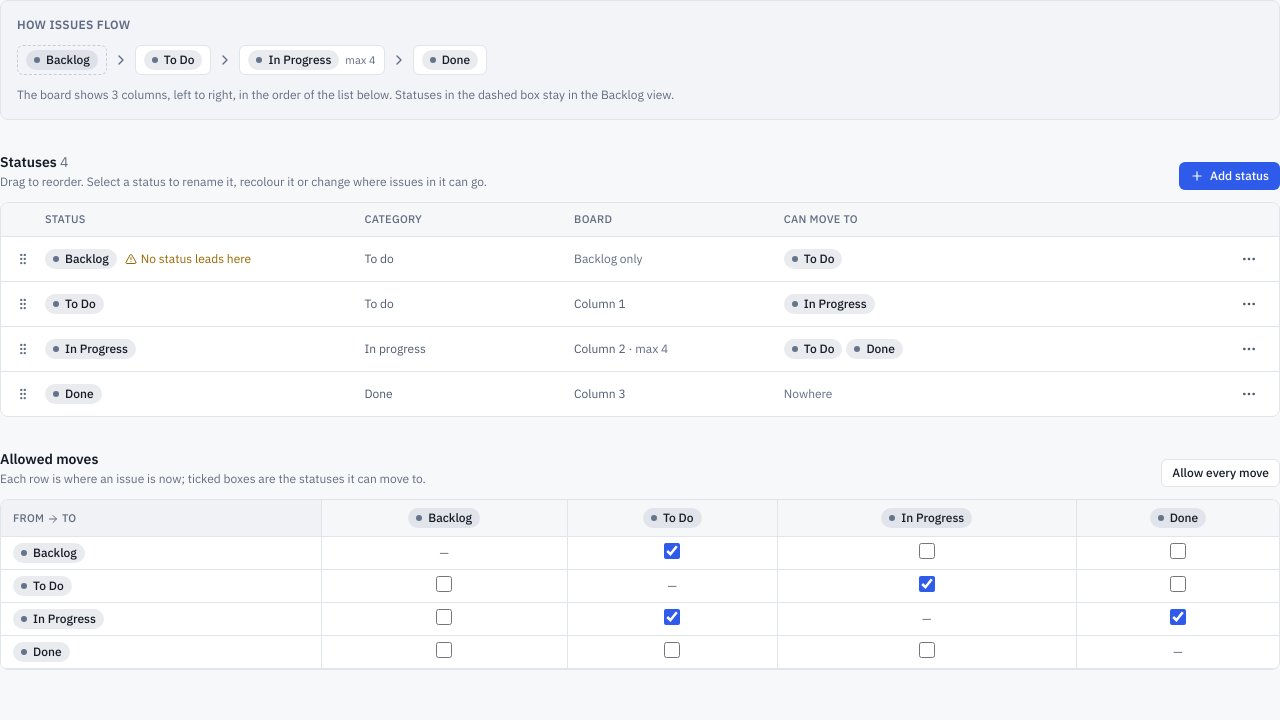
Scenario: workflow settings › edits a status in the panel: an untouched name isn't renamed, and its moves save together
The width and height of the screenshot is (1280, 720).
Click the button with aria-label "Edit In Progress".
click(90, 348)  # box x1=45 y1=338 x2=136 y2=359
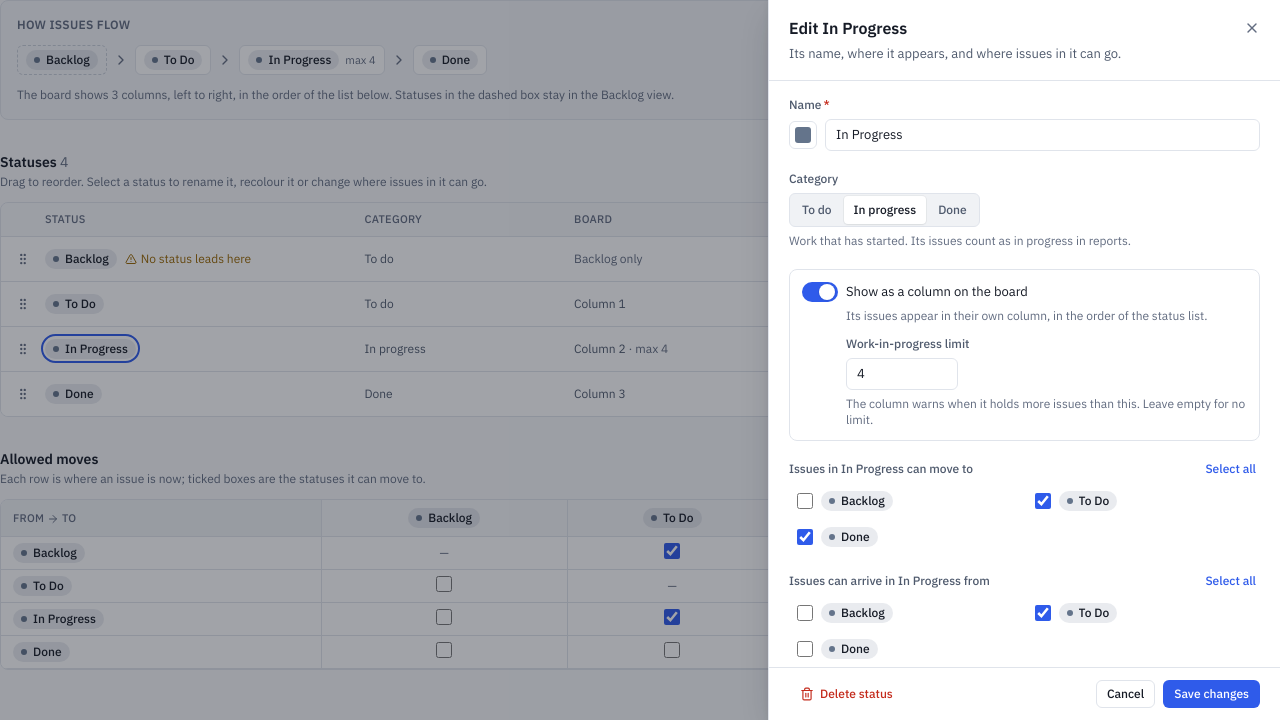
Check: the field labelled "Name*" holds "In Progress", box x1=825 y1=118 x2=1260 y2=150
Click the checkbox labelled "To Do" below "Issues in In Progress can move to".
click(1042, 500)  # box x1=1034 y1=492 x2=1050 y2=508
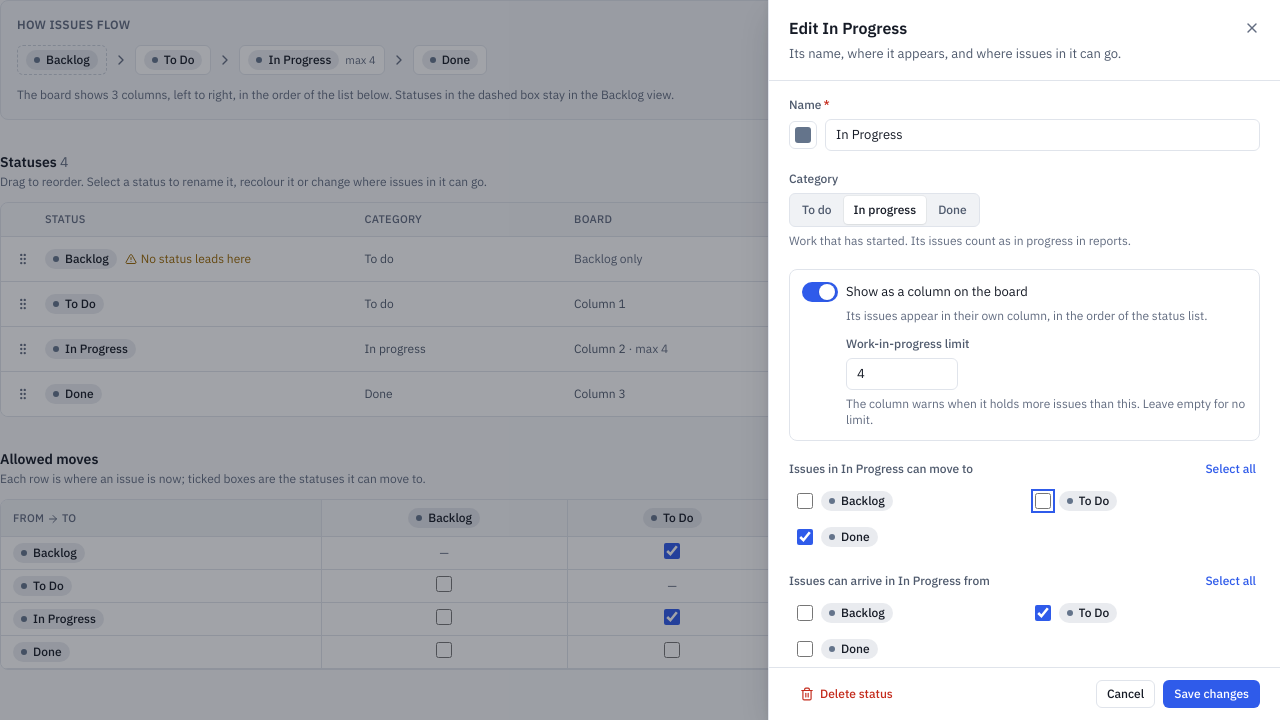
Clear the number field labelled "Work-in-progress limit" at (902,374), box x1=846 y1=358 x2=958 y2=390
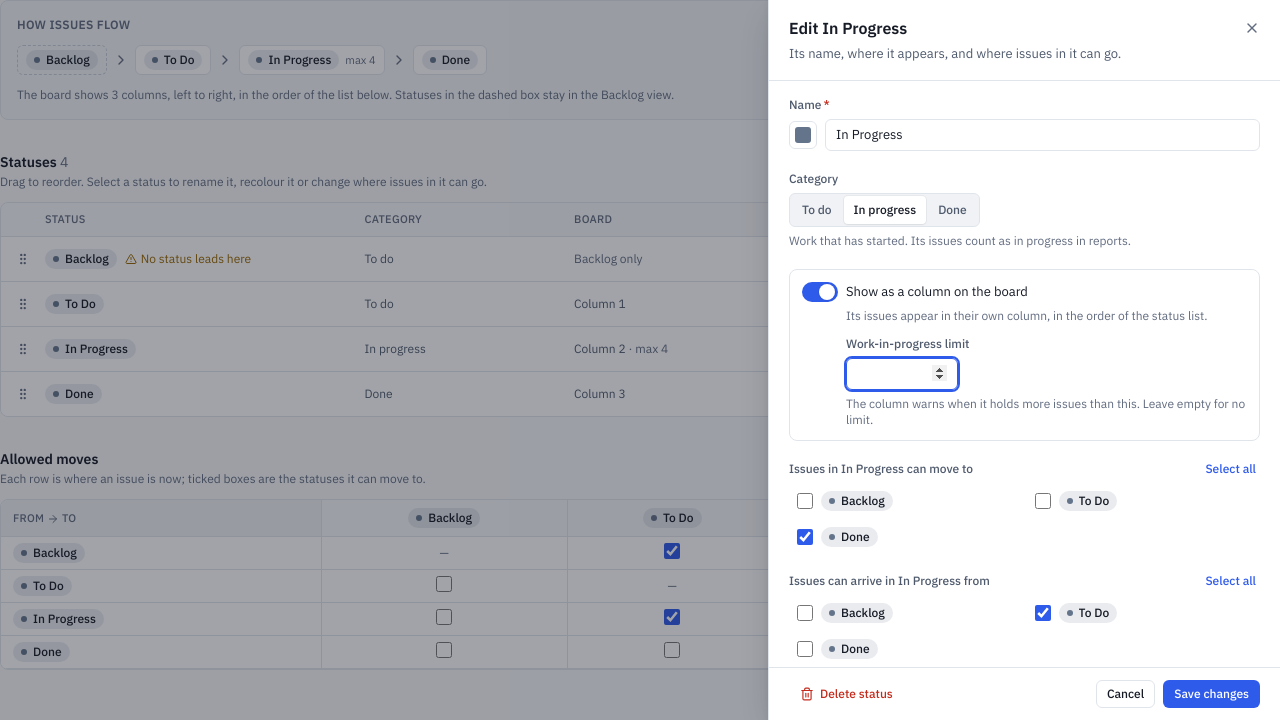
Click the button "Save changes".
click(1212, 694)  # box x1=1163 y1=680 x2=1260 y2=708
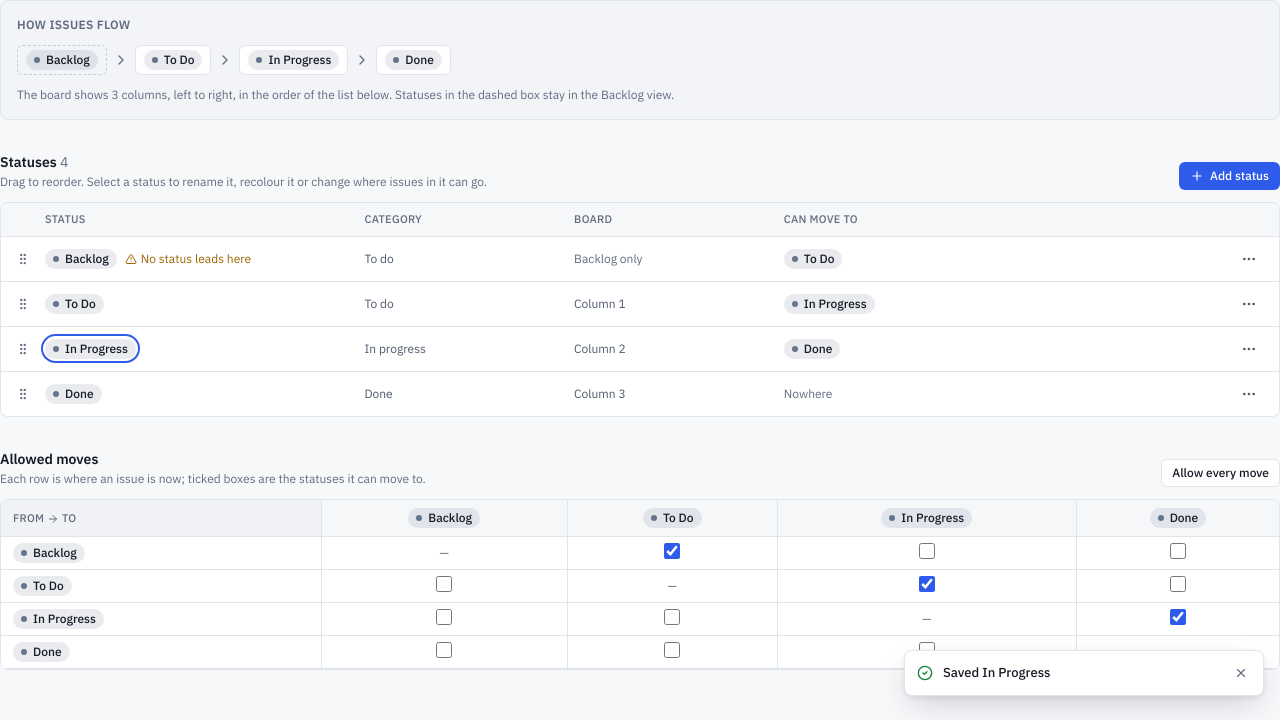
Check: the dialog is gone
Check: the checkbox named "Move from In Progress to To Do" is not checked, box x1=664 y1=608 x2=680 y2=624
